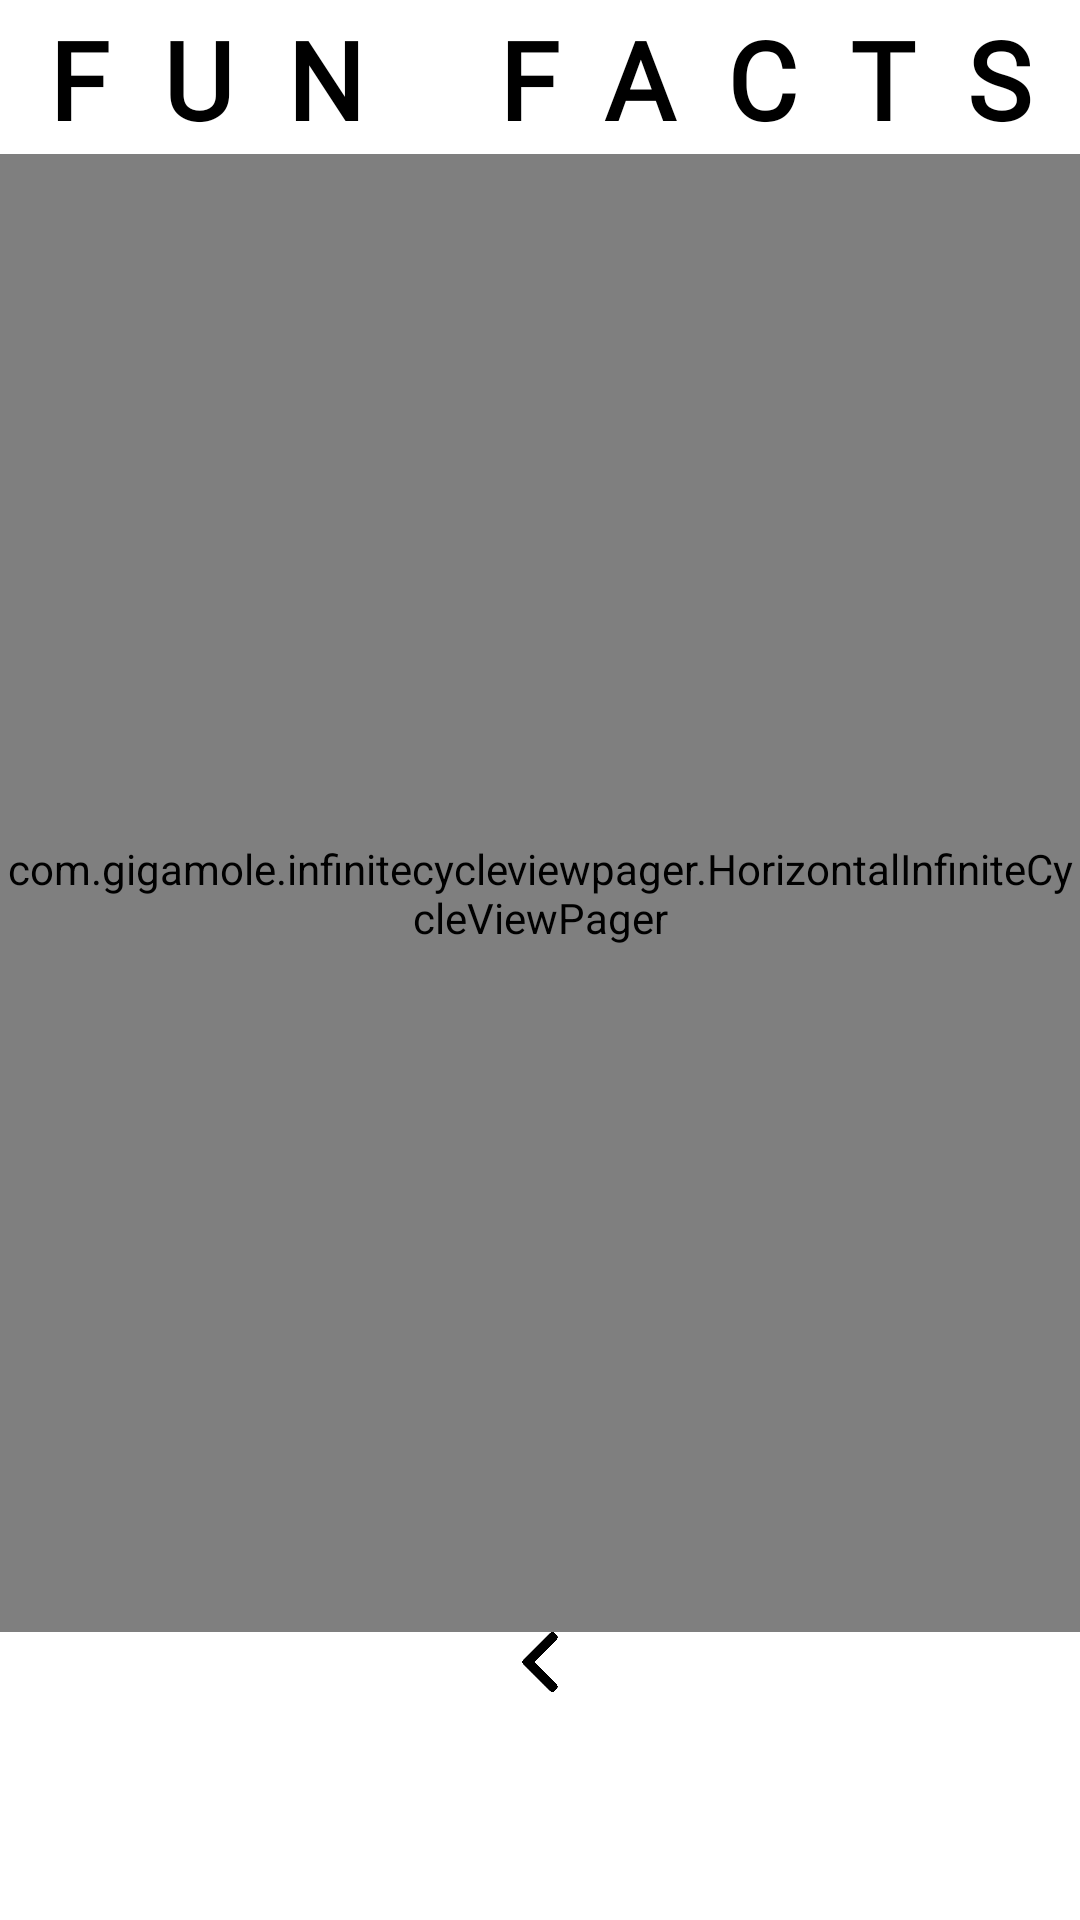

Icon click points for this 1080×1920 phone screenshot, format [x,y]:
back: [540,1662]
